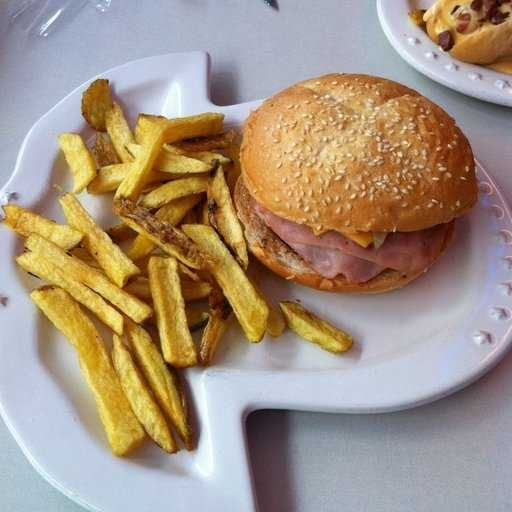hamburger: (243, 70, 474, 284)
